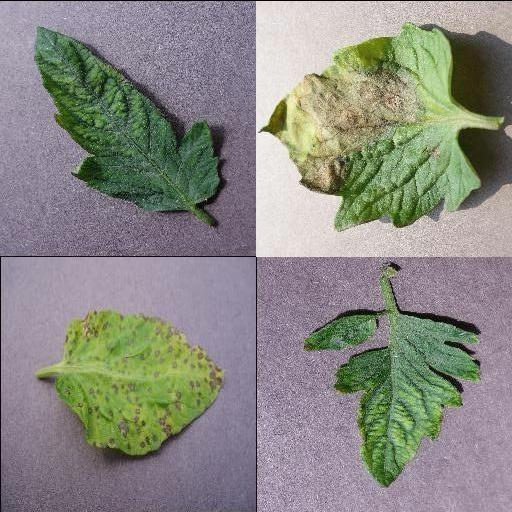Late Blight: (260, 20, 482, 230)
Mosaic Virus: (33, 25, 225, 213), (331, 309, 483, 489)
Septoria: (53, 311, 225, 457)
